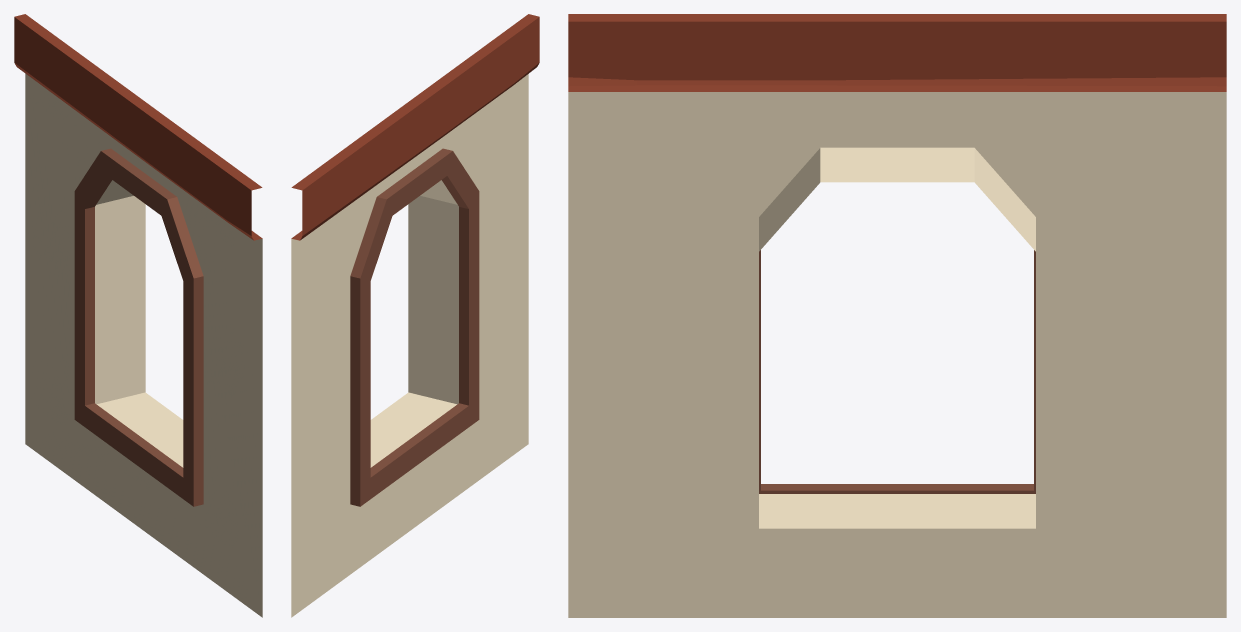
File: SM_Wall_Window_4_4.fbx
3 views of the same model, side by side, from view 1: azimuth 30°, elevation 25°; view 2: azimuth 150°, elevation 25°; view 3: azimuth 270°, elevation 25° (orthographic). The views are drawn at different scales.
Parts seen in each view (by area): view 1: Plane.014; view 2: Plane.014; view 3: Plane.014.
Part boxes in pixels (bbox=[...]): Plane.014: bbox=[14, 14, 262, 617]; Plane.014: bbox=[291, 14, 539, 617]; Plane.014: bbox=[568, 14, 1226, 617].
Size of the model in its own units: 60.96 by 400 by 400.
